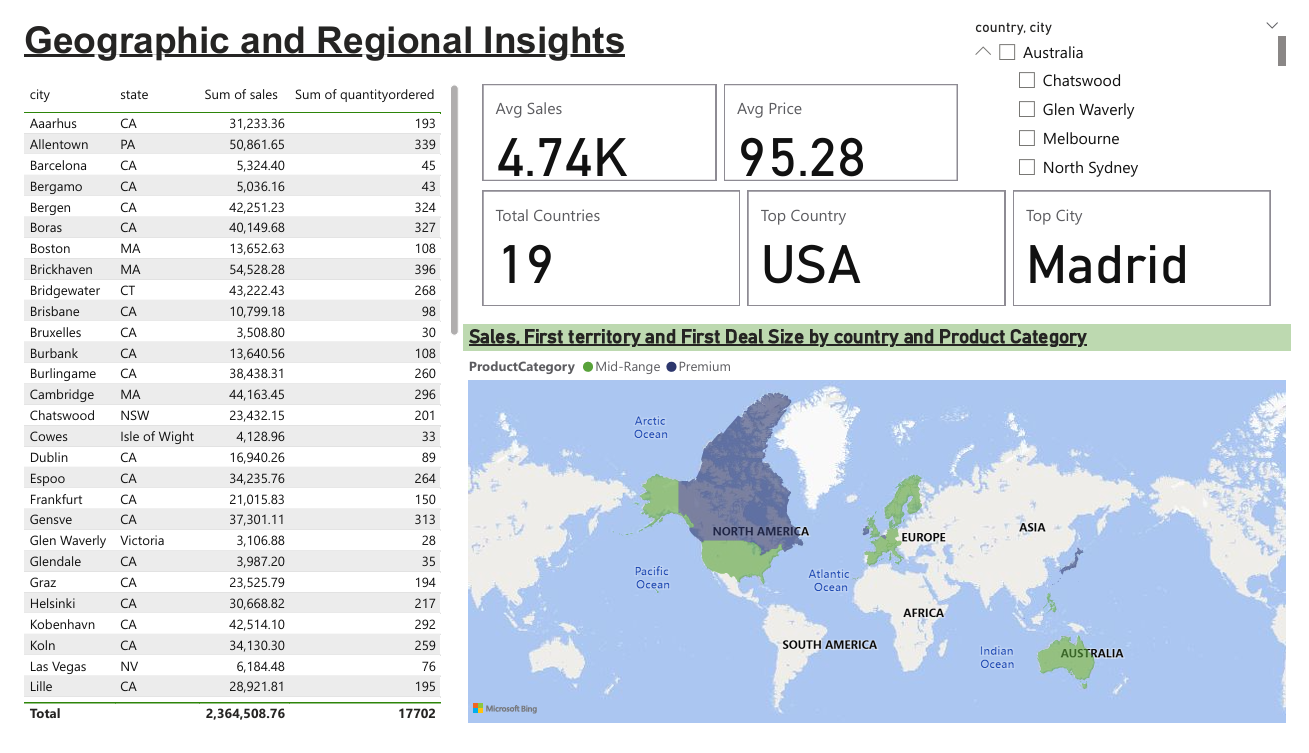

The page's visual inventory and layout, read from the dashboard file:
{"tool":"powerbi","page":{"name":"Region","canvas":[1280,720],"ordinal":3},"visuals":[{"type":"textbox","box":[0,0,629.4,65.7],"z":0},{"type":"filledMap","title":"Sales, First territory and First Deal Size by country and Product Category","fields":{"Category":["Sales_data.country","Sales_data.city"],"Series":["Sales_data.ProductCategory"]},"box":[448.1,312.7,832.5,406.3],"z":1000},{"type":"tableEx","fields":{"Values":["Sales_data.city","Sales_data.state","Sum(Sales_data.sales)","Sum(Sales_data.quantityordered)"]},"box":[0,65.7,448.1,653.3],"z":2000},{"type":"slicer","fields":{"Values":["Sales_data.country","Sales_data.city"]},"box":[950.1,0,330.6,173.3],"z":3000},{"type":"cardVisual","fields":{"Data":["Sales_data.Total Countries","Sales_data.Top Country","Sales_data.Top City"]},"box":[462.1,173.3,804.7,125.5],"z":4000},{"type":"cardVisual","fields":{"Data":["Sales_data.Avg Sales","Sales_data.Avg Price"]},"box":[462.1,65.7,488,107.6],"z":5000}]}

Visuals, with their boxes in screenshot pixels (x1, y1, x2, y2), scaled from the page's 1280x720 canvas onto the 1309x753 screenshot:
textbox: select_region(0, 0, 644, 69)
"Sales, First territory and First Deal Size by country and Product Category" filledMap: select_region(458, 327, 1308, 752)
tableEx - Sales_data.city x Sales_data.state: select_region(0, 69, 458, 752)
slicer - Sales_data.country x Sales_data.city: select_region(972, 0, 1308, 181)
cardVisual - Sales_data.Total Countries x Sales_data.Top Country: select_region(473, 181, 1296, 312)
cardVisual - Sales_data.Avg Sales x Sales_data.Avg Price: select_region(473, 69, 972, 181)
